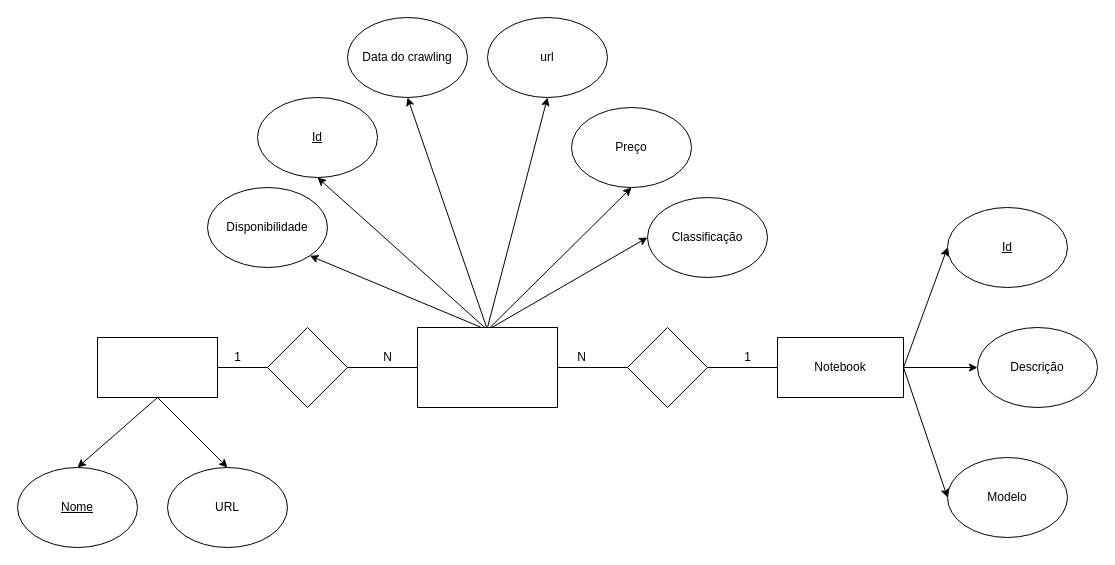
Some shapes in this 1115 by 565 pixel diagram are drawn without their labels. Each missing label, with the box of its shape:
Loja: (96, 336, 218, 398)
Loja_vende_notebook: (416, 326, 558, 408)
Vende: (266, 326, 348, 408)
É vendido: (626, 326, 708, 408)
